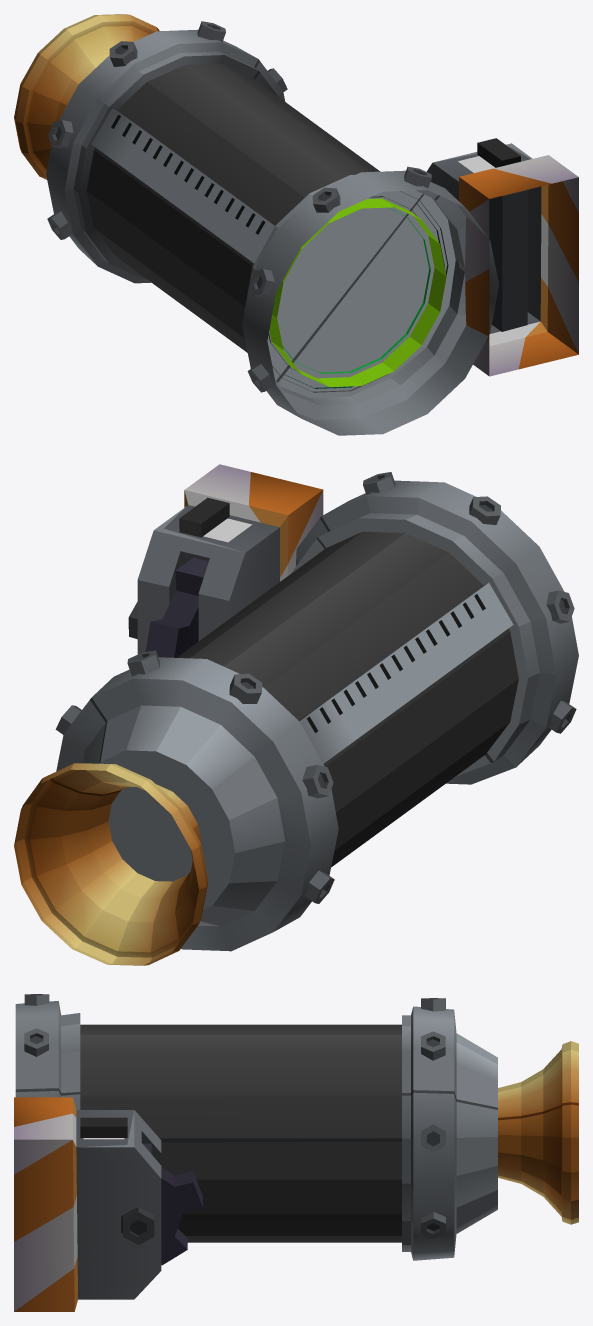
File: oozeCanister.fbx
3 views of the same model, one above another, from view 1: azimuth 30°, elevation 25°; view 2: azimuth 150°, elevation 25°; view 3: azimuth 270°, elevation 25° (orthographic). The views are drawn at different scales.
Parts seen in each view (by area): view 1: oozeCanister, oozeCanisterShell, cogHousing, oozeGlow, switch1, ooze; view 2: oozeCanister, oozeCanisterShell, cogHousing, cog, switch1; view 3: oozeCanisterShell, oozeCanister, cogHousing, cog, switch1.
Boxes of the visible parts, x1,y1,x2,y2 form: oozeCanister: [14, 14, 498, 435]; oozeCanisterShell: [86, 64, 448, 392]; cogHousing: [426, 143, 578, 376]; oozeGlow: [269, 198, 446, 386]; switch1: [477, 138, 520, 167]; ooze: [282, 207, 430, 373]; oozeCanister: [14, 472, 578, 965]; oozeCanisterShell: [176, 531, 518, 867]; cogHousing: [128, 464, 323, 654]; cog: [145, 557, 208, 657]; switch1: [179, 497, 229, 537]; oozeCanisterShell: [80, 1024, 401, 1242]; oozeCanister: [15, 994, 578, 1260]; cogHousing: [14, 1097, 161, 1311]; cog: [143, 1143, 202, 1265]; switch1: [80, 1117, 127, 1137].
Size of the model in its own units: 215 by 158 by 337.
